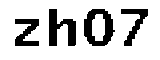0: (82, 8, 115, 47)
7: (119, 7, 151, 48)
h: (45, 6, 78, 50)
z: (10, 16, 43, 51)
